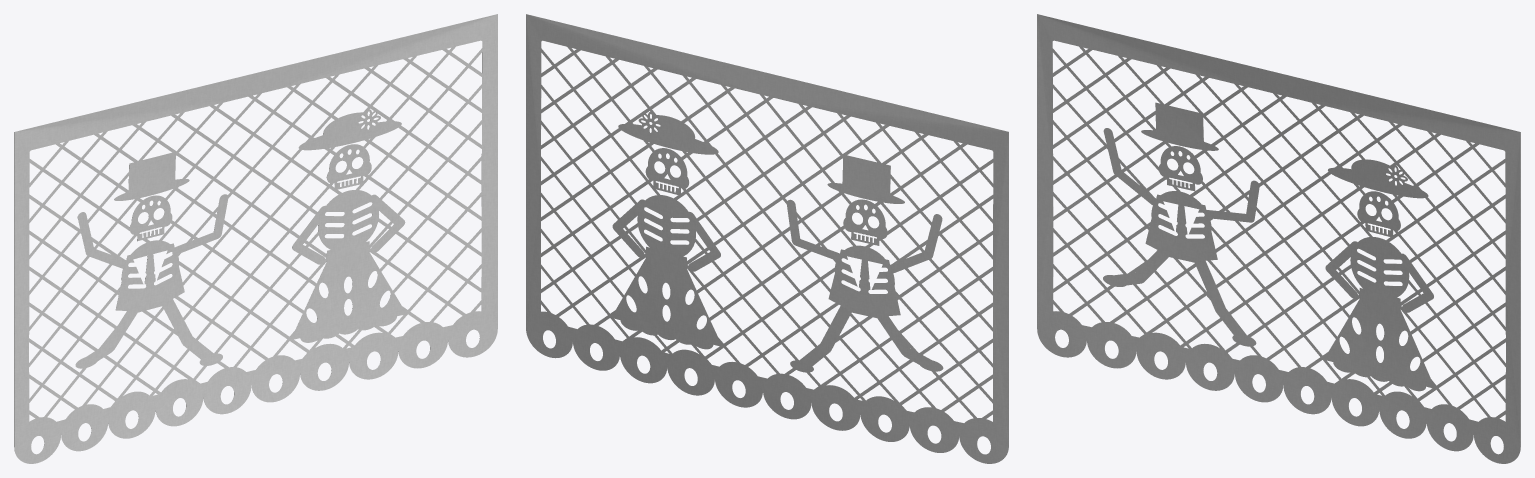
Rendered from papel_4.gltf.
3 renders of one model, left to right at view 1: azimuth 30°, elevation 25°; view 2: azimuth 150°, elevation 25°; view 3: azimuth 330°, elevation 25°, orthographic.
Parts seen in each view (by area): view 1: papel_4; view 2: papel_4; view 3: papel_4.
Boxes of the visible parts, left/top/right/bottom form: papel_4: left=14, top=14, right=497, bottom=463; papel_4: left=526, top=14, right=1008, bottom=463; papel_4: left=1037, top=14, right=1520, bottom=463.
Size of the model in its own units: 0.45 by 0.3 by 0.00909.
Materials: 1 (1 with a texture image).
